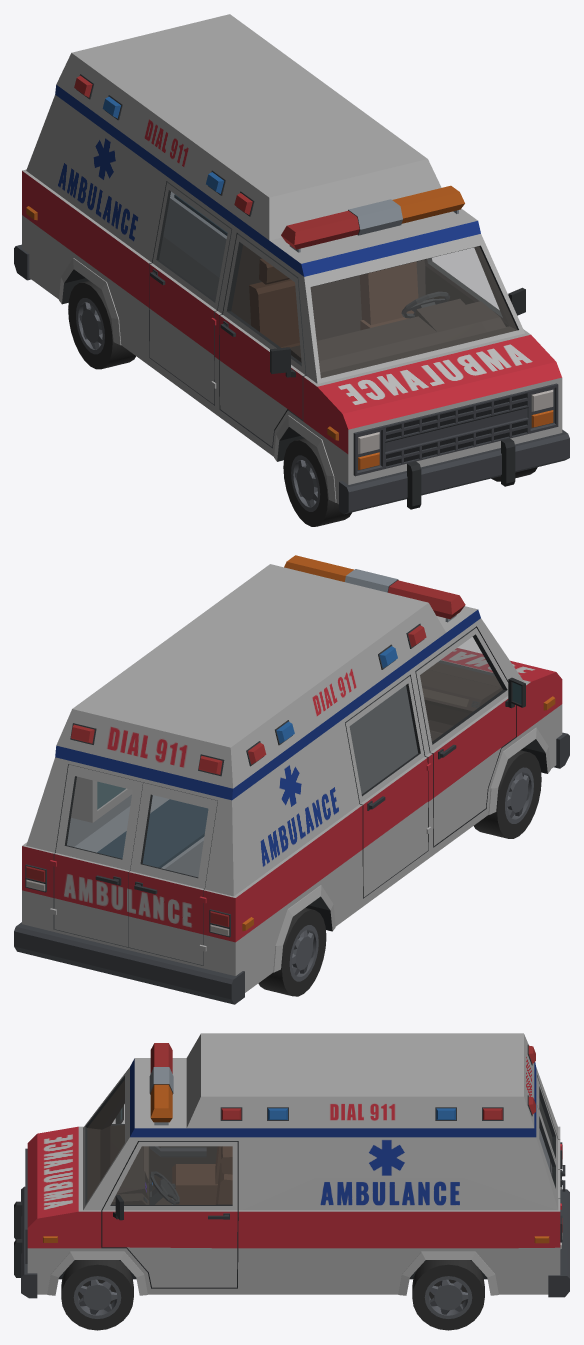
Rendered from 06_AMBULANCE.glb.
3 views of the same model, one above another, from view 1: azimuth 30°, elevation 25°; view 2: azimuth 150°, elevation 25°; view 3: azimuth 270°, elevation 25° (orthographic). The views are drawn at different scales.
Parts seen in each view (by area): view 1: AMBULANCE, WINDOW F, INTERIOR.015, DOOR FR.005, DOOR S, WIN FR.001, WIN S, WHEEL.2R, WHEEL.1R, INTERIOR 2, DOOR. FL, WIN FL.008; view 2: AMBULANCE, DOOR FR.005, DOOR BL.005, DOOR BR.005, DOOR S, INTERIOR 2, WIN FR.001, WIN S, WIN BR.005, WIN BL.005, WHEEL.2R, WHEEL.1R (+2 smaller); view 3: AMBULANCE, DOOR. FL, WIN FL.008, INTERIOR.015, WHEEL.2L, WHEEL.1L, WINDOW F, DOOR FR.005, DOOR BR.005, DOOR BL.005.
Boxes of the visible parts, <box> form: AMBULANCE: <box>14,14,569,514</box>; WINDOW F: <box>311,246,516,377</box>; INTERIOR.015: <box>249,258,506,372</box>; DOOR FR.005: <box>219,233,306,446</box>; DOOR S: <box>149,181,232,404</box>; WIN FR.001: <box>231,245,300,361</box>; WIN S: <box>159,192,227,300</box>; WHEEL.2R: <box>68,280,135,369</box>; WHEEL.1R: <box>283,438,351,526</box>; INTERIOR 2: <box>163,191,227,277</box>; DOOR. FL: <box>424,247,525,326</box>; WIN FL.008: <box>427,248,501,316</box>; AMBULANCE: <box>14,555,569,1004</box>; DOOR FR.005: <box>415,627,525,846</box>; DOOR BL.005: <box>54,764,143,946</box>; DOOR BR.005: <box>129,782,217,965</box>; DOOR S: <box>345,675,428,897</box>; INTERIOR 2: <box>71,776,208,877</box>; WIN FR.001: <box>420,637,502,740</box>; WIN S: <box>350,685,417,793</box>; WIN BR.005: <box>143,795,207,876</box>; WIN BL.005: <box>67,777,132,858</box>; WHEEL.2R: <box>258,908,326,996</box>; WHEEL.1R: <box>474,750,541,838</box>; AMBULANCE: <box>14,1033,569,1298</box>; DOOR. FL: <box>101,1141,238,1287</box>; WIN FL.008: <box>111,1146,232,1204</box>; INTERIOR.015: <box>100,1125,232,1204</box>; WHEEL.2L: <box>412,1260,484,1330</box>; WHEEL.1L: <box>61,1260,133,1330</box>; WINDOW F: <box>87,1080,124,1201</box>; DOOR FR.005: <box>101,1093,217,1191</box>; DOOR BR.005: <box>537,1076,565,1178</box>; DOOR BL.005: <box>537,1106,565,1198</box>.
Size of the model in its own units: 2.25 by 2.31 by 5.22.
Materials: 3 (3 with a texture image).
